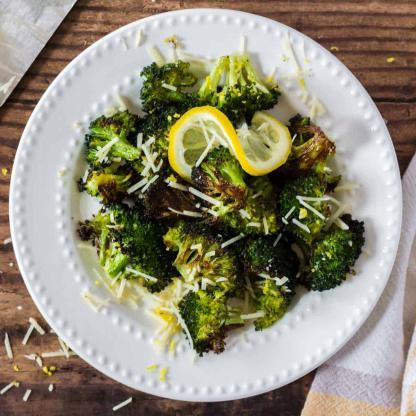broccoli: (73, 34, 367, 360)
